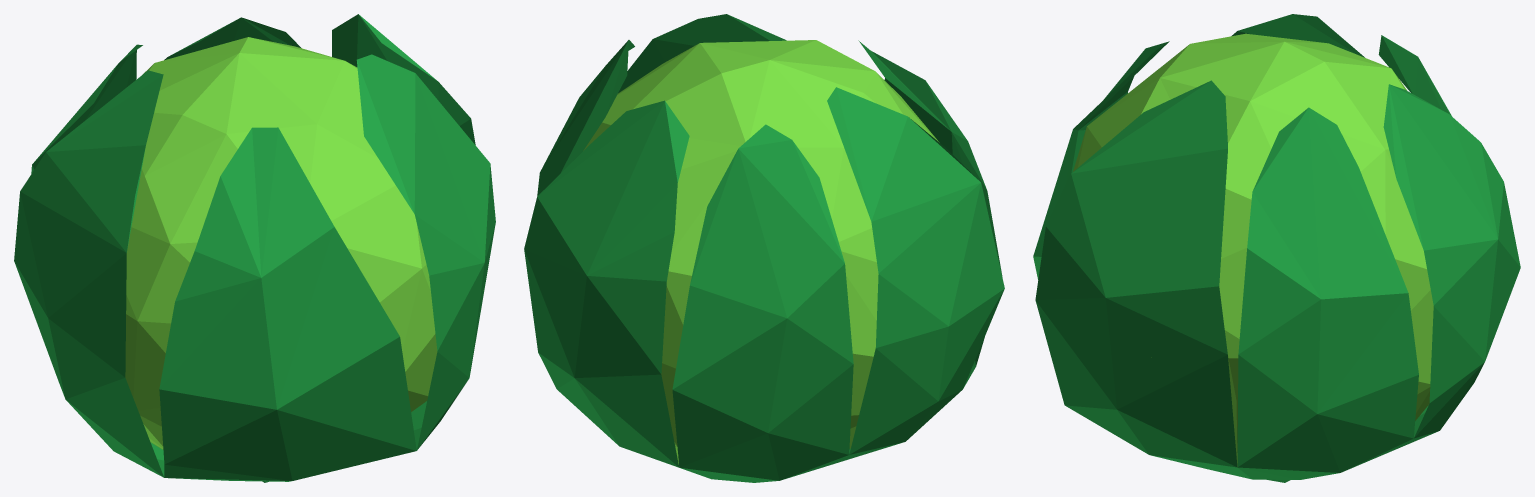
The model's file is Cabage_0.fbx.
3 renders of one model, left to right at view 1: azimuth 30°, elevation 25°; view 2: azimuth 150°, elevation 25°; view 3: azimuth 270°, elevation 25°, orthographic.
Parts seen in each view (by area): view 1: Sphere.002; view 2: Sphere.002; view 3: Sphere.002.
Part boxes in pixels (x1,y1,x2,y2): Sphere.002: [14, 14, 495, 482]; Sphere.002: [524, 14, 1004, 482]; Sphere.002: [1033, 14, 1520, 482].
Bounding box in the file's own units: 355 × 338 × 347.
